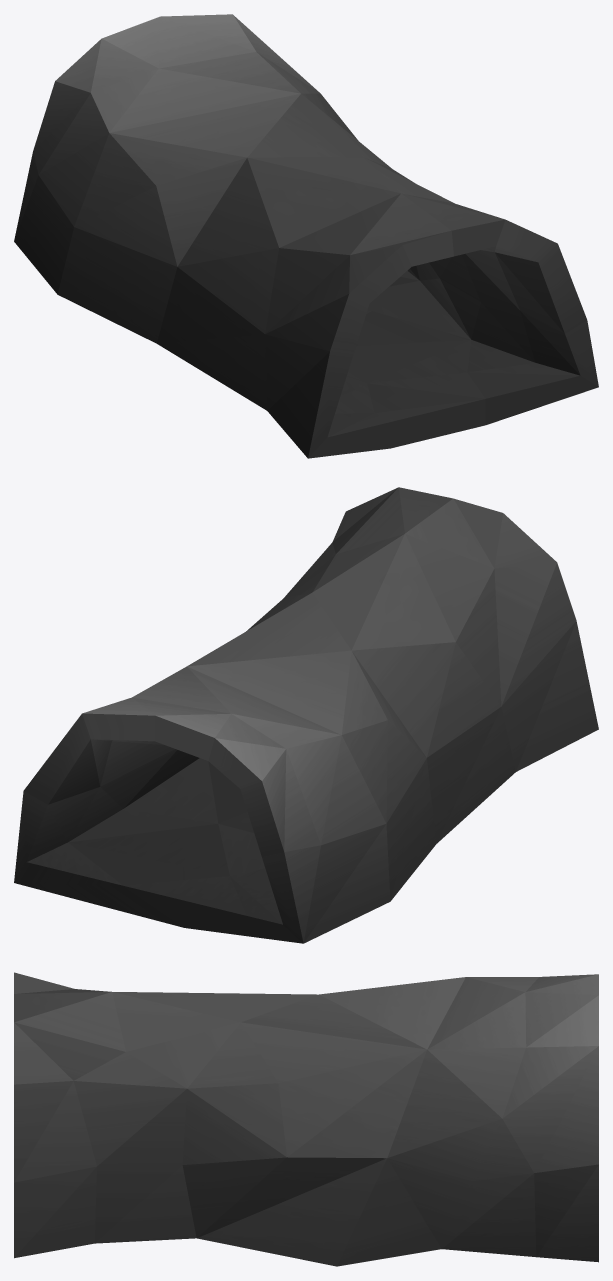
Rendered from GL-Cave-part-01-LOD2.fbx.
3 renders of one model, top to bottom at view 1: azimuth 30°, elevation 25°; view 2: azimuth 150°, elevation 25°; view 3: azimuth 270°, elevation 25°, orthographic.
Visible parts, largest first — view 1: GL_Cave_part_01; view 2: GL_Cave_part_01; view 3: GL_Cave_part_01.
Boxes of the visible parts, x1=… form: GL_Cave_part_01: x1=14, y1=14, x2=598, y2=458; GL_Cave_part_01: x1=14, y1=487, x2=598, y2=943; GL_Cave_part_01: x1=14, y1=972, x2=598, y2=1266.
Bounding box in the file's own units: 3.74 × 2.32 × 6.01.
